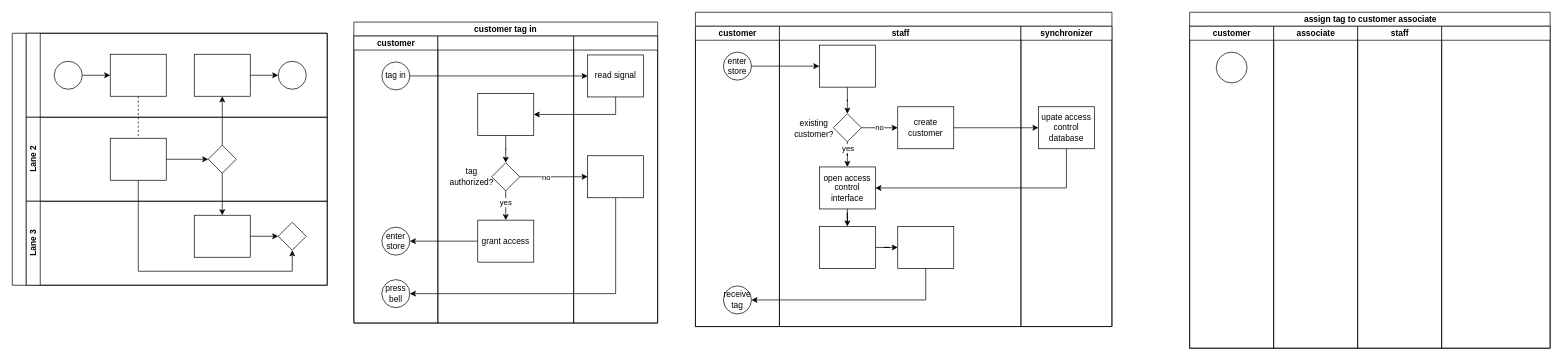
Some shapes in this 1562 by 361 pixel diagram are drawn without their labels. The box of each missing label's shape, as (x1, y1, x2, y2) in pixels:
access control system: (1441, 26, 1550, 348)
assign tag: (897, 226, 954, 268)
assign tag to customer: (695, 12, 1112, 327)
buzz: (587, 155, 644, 198)
controller: (437, 35, 574, 323)
find customer: (819, 226, 875, 268)
gather information: (819, 44, 875, 87)
Lane 1: (26, 33, 327, 117)
process data: (477, 93, 534, 135)
reader: (573, 35, 658, 323)
